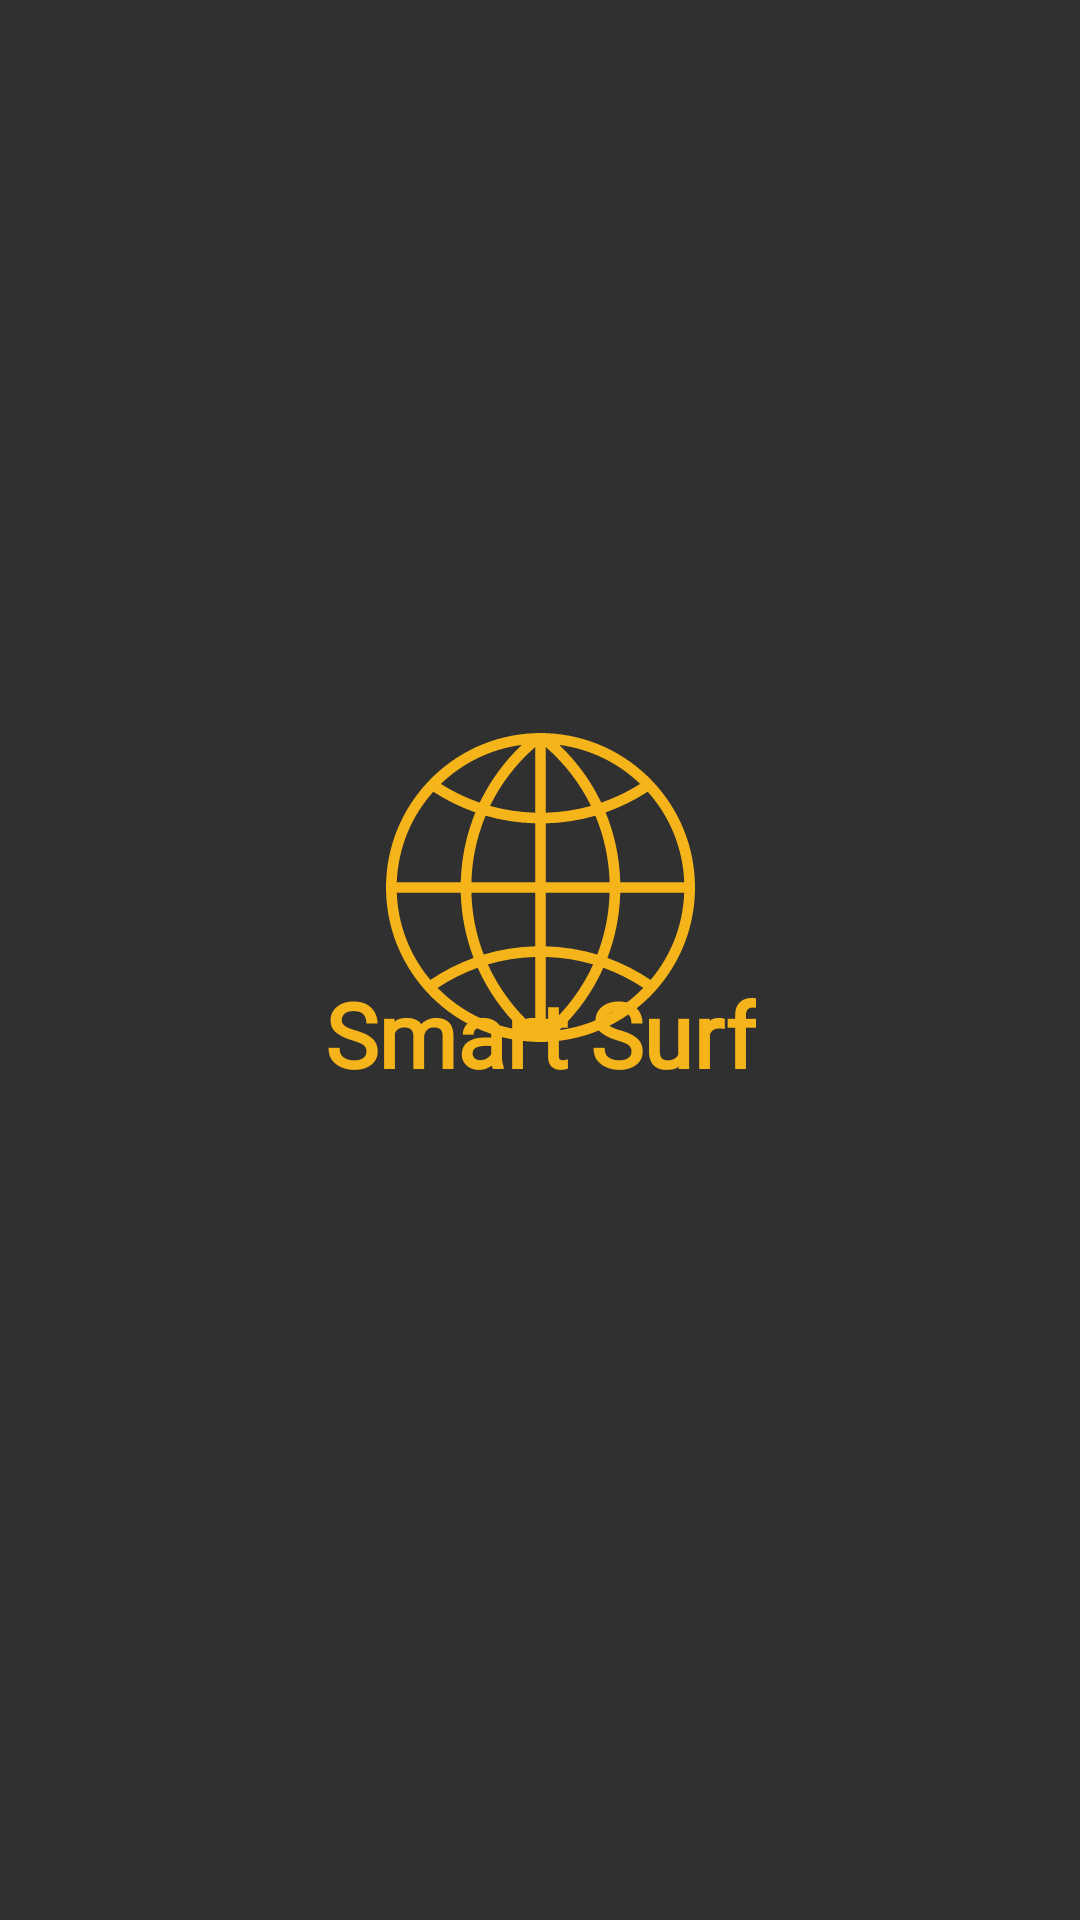

Where to tap for icons on this 1080*1920 app screen, as point (x, y):
internet: point (540, 887)
